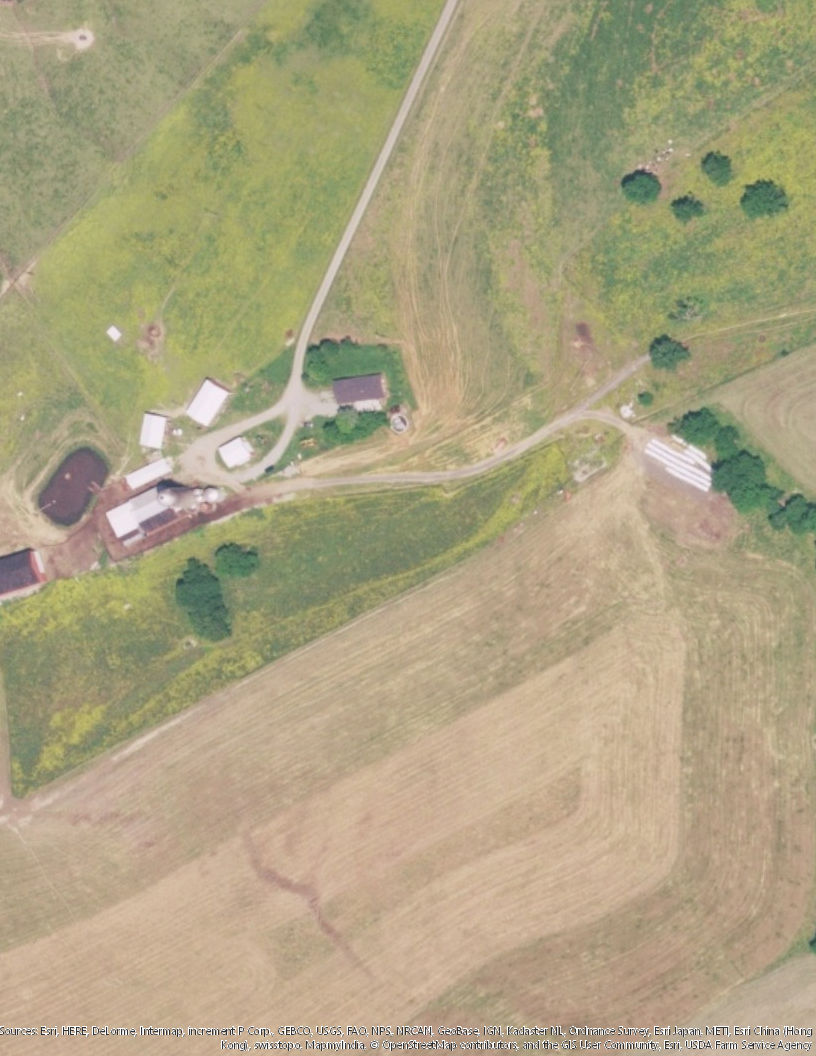cafo: (103, 484, 176, 539), (186, 374, 230, 426), (126, 459, 175, 495), (140, 411, 169, 451)
